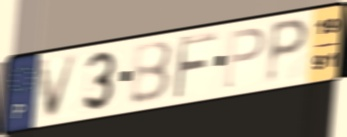3: (82, 48, 118, 114)
B: (128, 38, 176, 107)
F: (171, 30, 219, 103)
P: (263, 16, 312, 87), (223, 25, 268, 91)
V: (36, 51, 82, 123)
